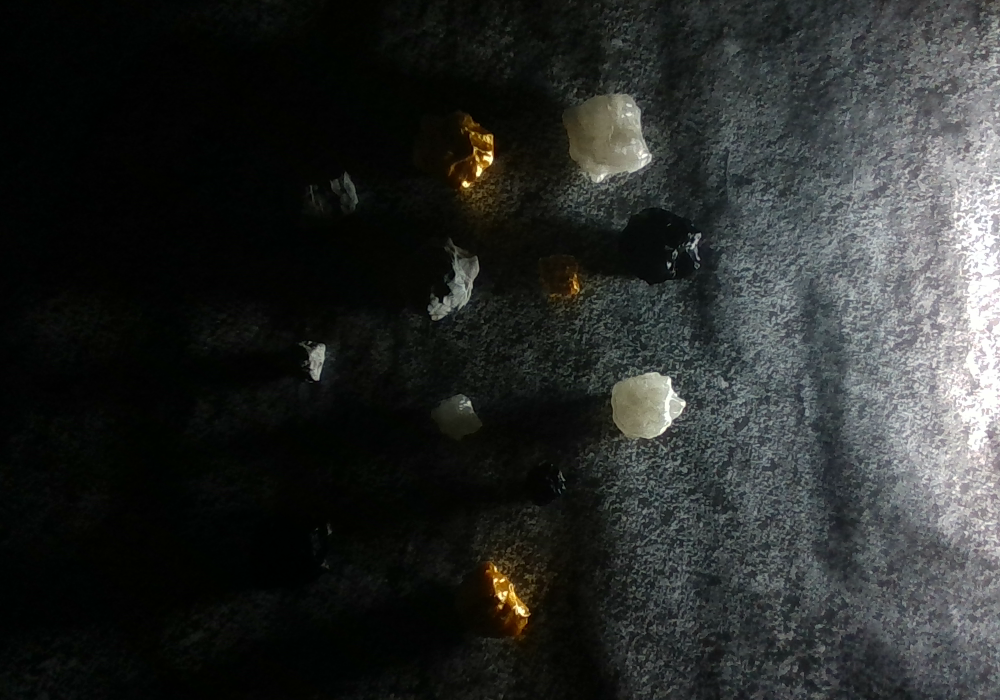anorthosite: (562, 93, 652, 183), (610, 371, 687, 440), (431, 393, 482, 439)
basalt: (617, 208, 702, 286), (522, 461, 565, 507)
metal: (248, 510, 332, 591), (412, 110, 493, 191), (451, 559, 530, 640), (538, 253, 580, 298)
regolith: (396, 237, 478, 322), (282, 149, 357, 233), (287, 340, 327, 384)
